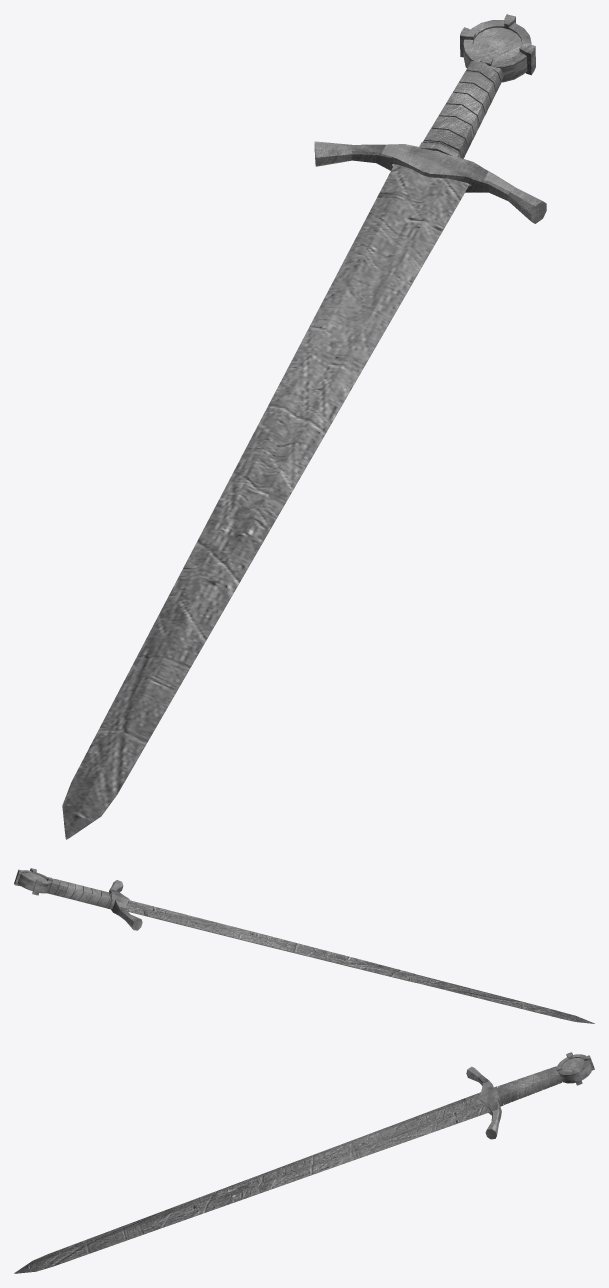
File: Sword-transformed.glb
The picture shows the model from 3 angles, top to bottom: view 1: azimuth 30°, elevation 25°; view 2: azimuth 150°, elevation 25°; view 3: azimuth 330°, elevation 25°; orthographic projection. The views are drawn at different scales.
Parts seen in each view (by area): view 1: Sword_04; view 2: Sword_04; view 3: Sword_04.
Boxes of the visible parts, bbox=[...] form: Sword_04: bbox=[62, 14, 546, 839]; Sword_04: bbox=[14, 868, 594, 1023]; Sword_04: bbox=[14, 1052, 594, 1273].
Size of the model in its own units: 0.0846 by 0.0372 by 0.066.
Materials: 1 (1 with a texture image).
